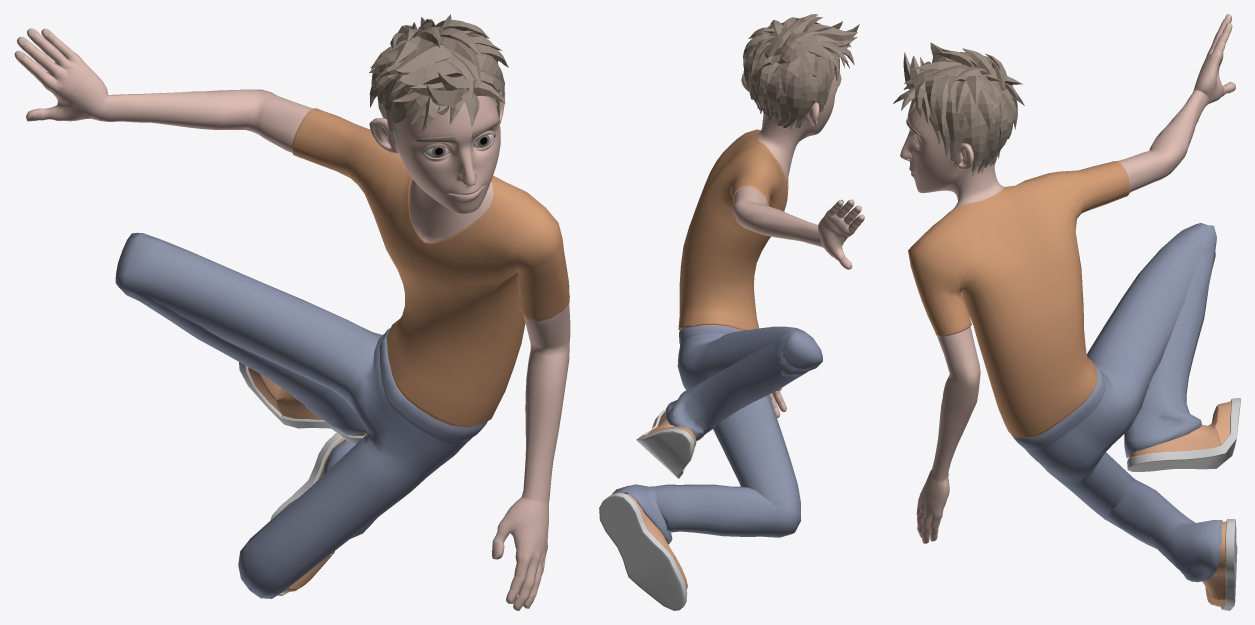
The model's file is Charge_Pose.fbx.
3 views of the same model, side by side, from view 1: azimuth 30°, elevation 25°; view 2: azimuth 150°, elevation 25°; view 3: azimuth 270°, elevation 25° (orthographic). The views are drawn at different scales.
Visible parts, largest first — view 1: RayGEO, hairGEO, Rt_shoe, Lf_shoe; view 2: RayGEO, hairGEO, Lf_shoe, Rt_shoe; view 3: RayGEO, hairGEO, Rt_shoe, Lf_shoe.
Part boxes in pixels (x1,y1,x2,y2): RayGEO: [14, 28, 570, 610]; hairGEO: [369, 14, 508, 143]; Rt_shoe: [239, 362, 366, 443]; Lf_shoe: [270, 432, 344, 595]; RayGEO: [612, 69, 864, 544]; hairGEO: [743, 14, 859, 129]; Lf_shoe: [599, 492, 687, 610]; Rt_shoe: [636, 410, 696, 478]; RayGEO: [900, 14, 1235, 582]; hairGEO: [893, 42, 1024, 176]; Rt_shoe: [1127, 398, 1240, 471]; Lf_shoe: [1202, 519, 1237, 610].
Bounding box in the file's own units: 7.19 × 12.26 × 6.95.
